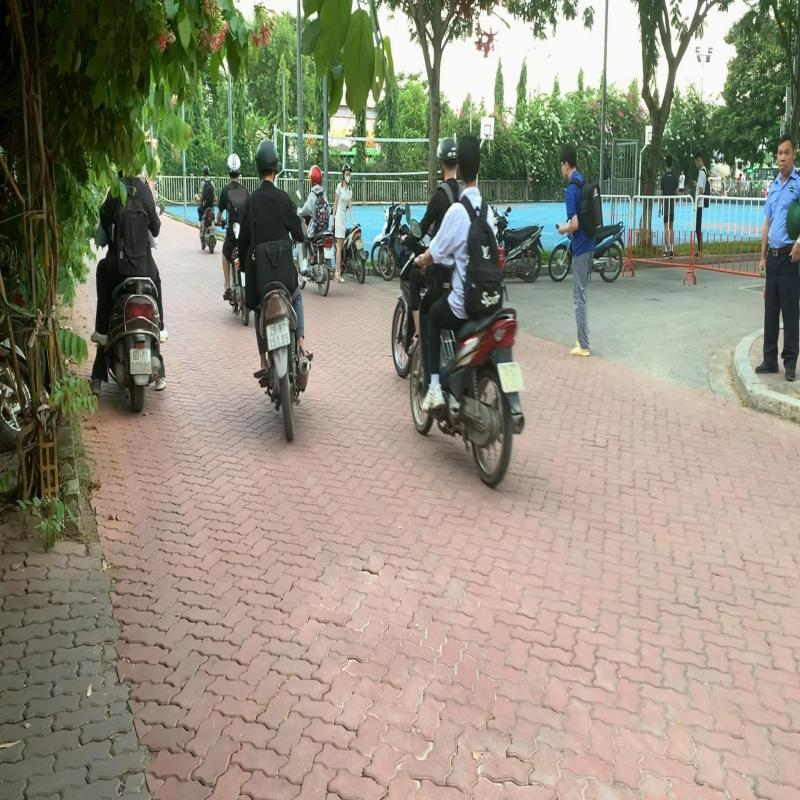nohelmet: (455, 131, 484, 188)
